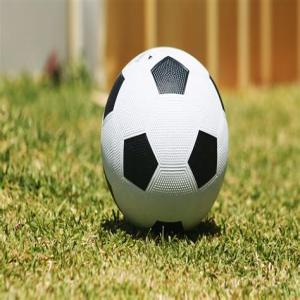Football: (100, 44, 236, 236)
